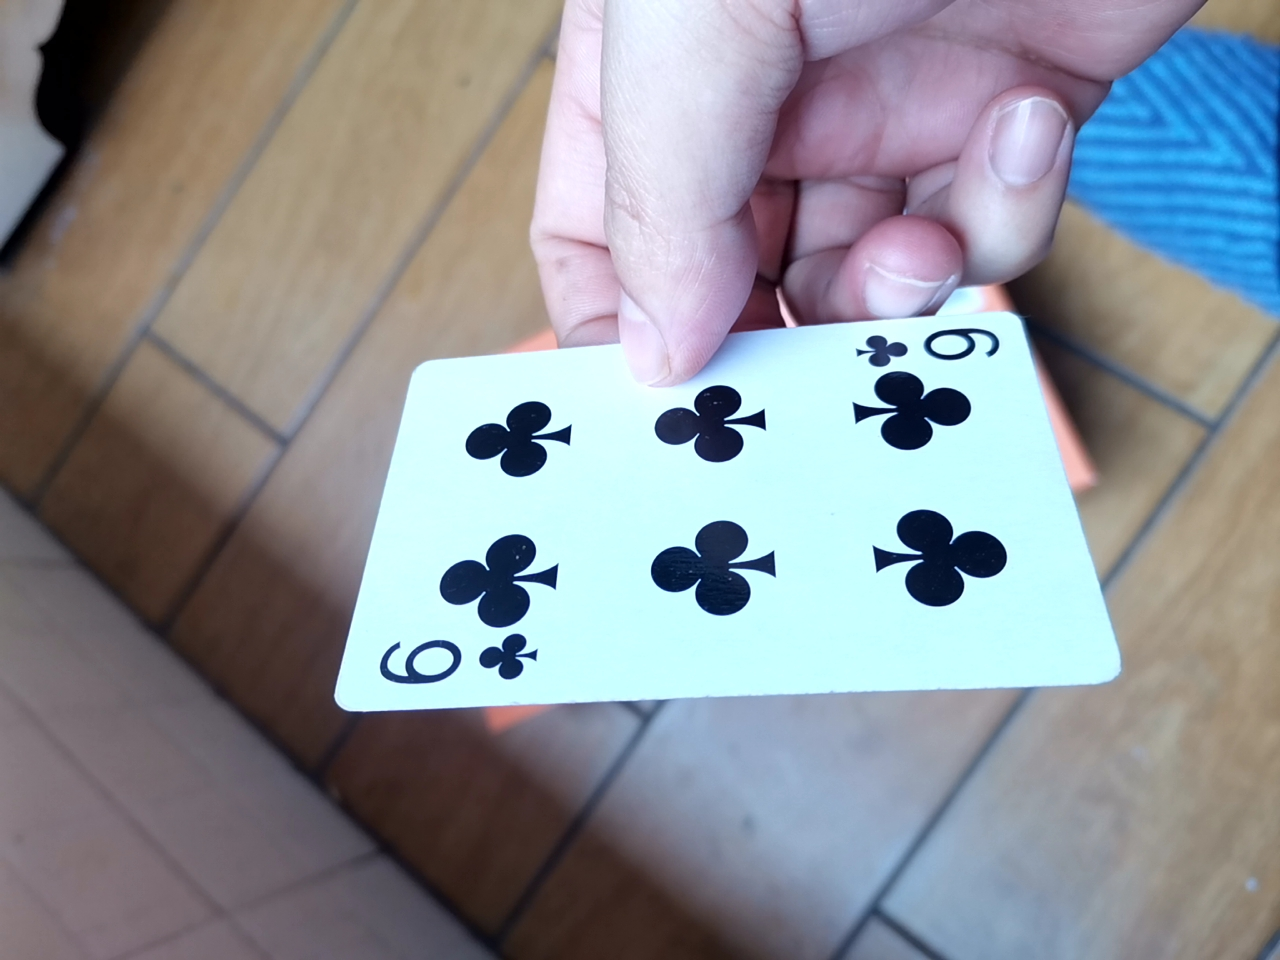mh 6: (314, 280, 1130, 726)
